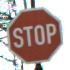stopsign: (8, 6, 63, 63)
